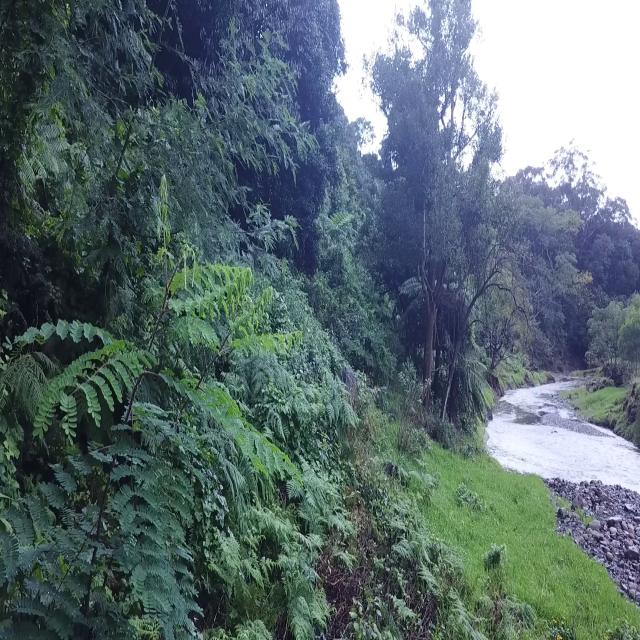Mysore-Thorn-Weed: (0, 187, 300, 636)
